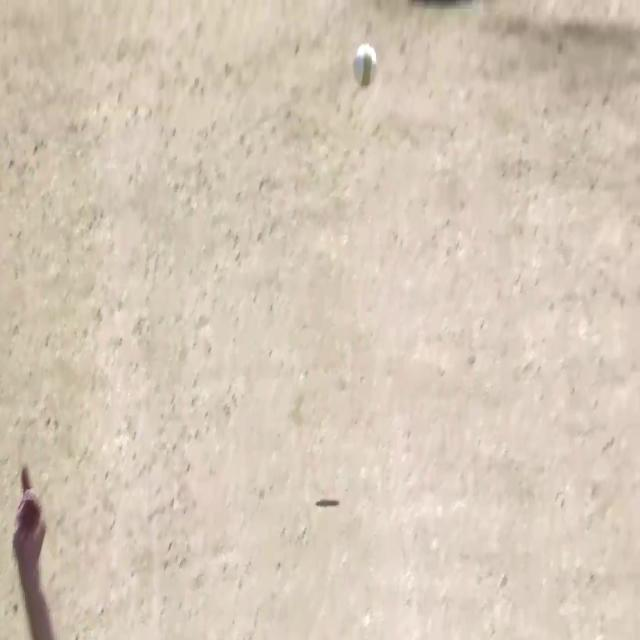ball: (352, 44, 380, 89)
